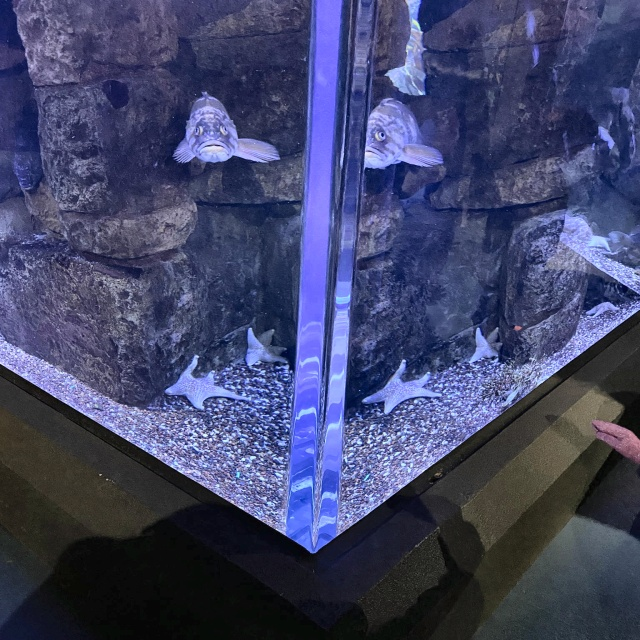fish: (362, 102, 444, 173), (180, 102, 255, 167)
starfish: (162, 366, 242, 411), (370, 362, 440, 412), (244, 331, 291, 369), (472, 328, 508, 365)
